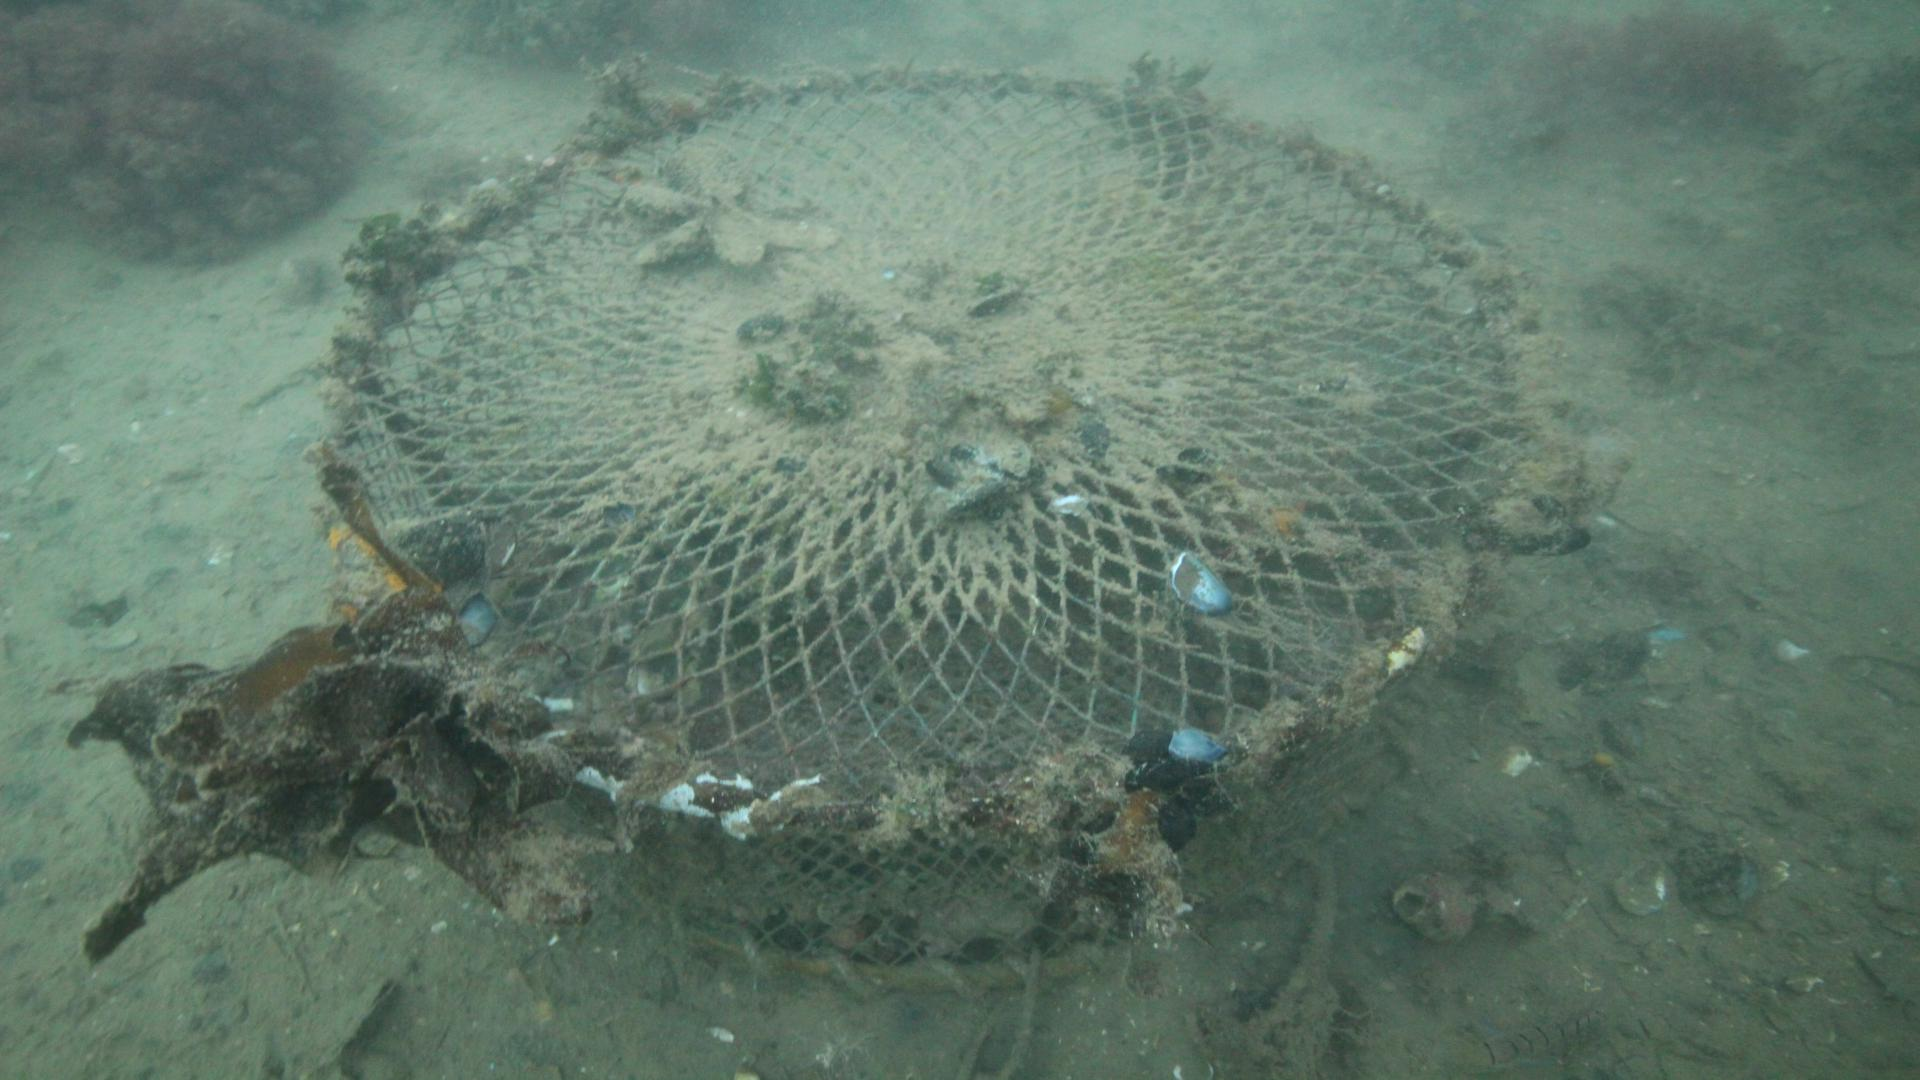circular fish trap: (301, 59, 1552, 992)
